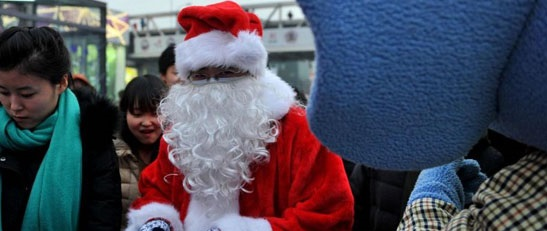face: (1, 71, 50, 125), (125, 104, 162, 142)
face_mask: (188, 57, 252, 124)
